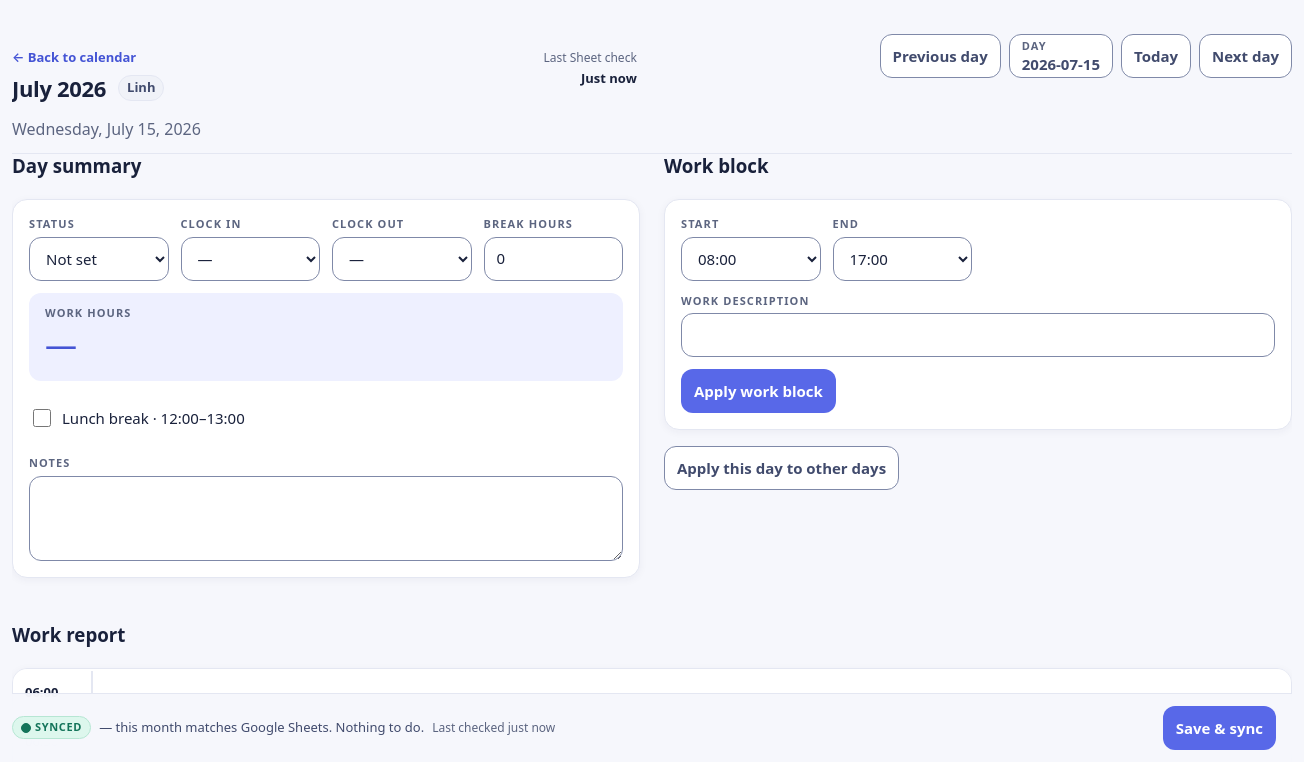
Test: AttendanceEditor › writes a work block into every covered slot of the shared draft
This screenshot has width=1304, height=762.
Check: the button "Save & sync" is shown, box [1163,706,1276,750]
Step 1. Select "09:00" in the dropdown labelled "Start" → (751, 258), box [681,236,820,280]
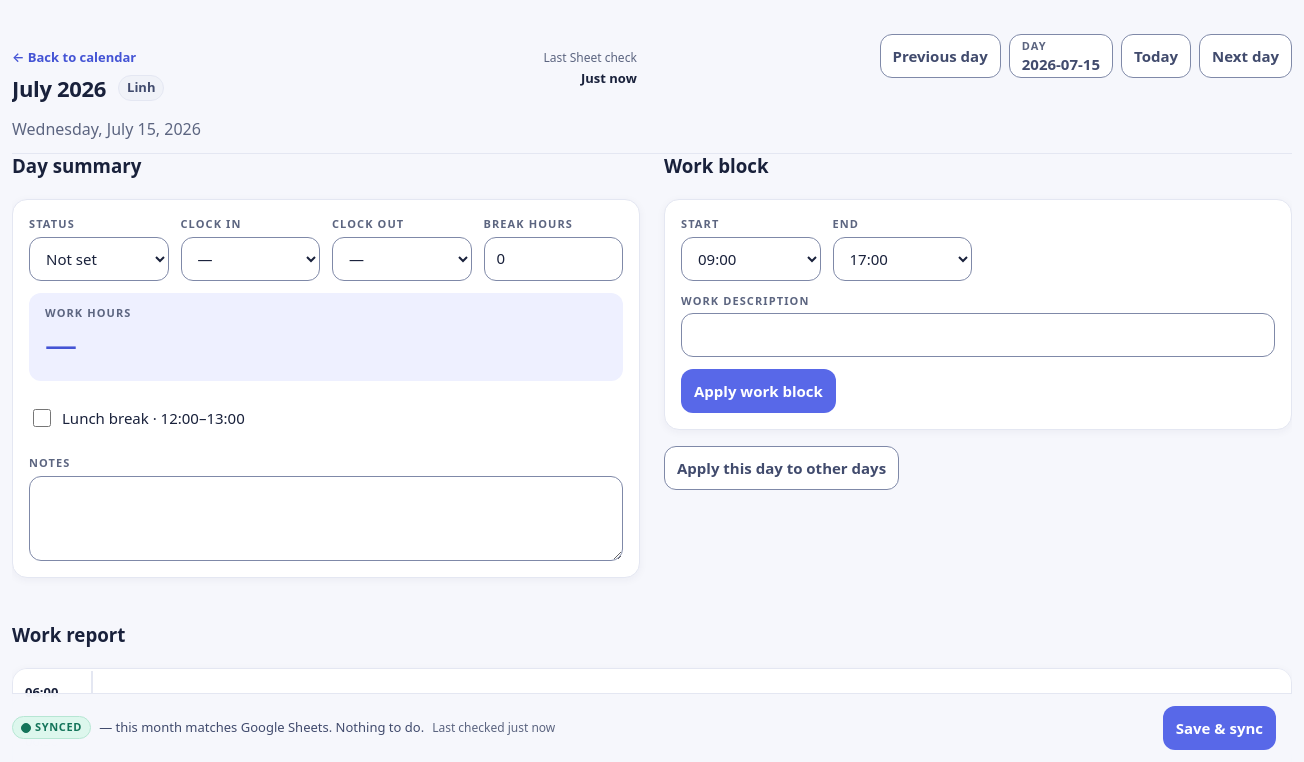
Step 2. Select "10:00" in the dropdown labelled "End" → (902, 258), box [832,236,972,280]
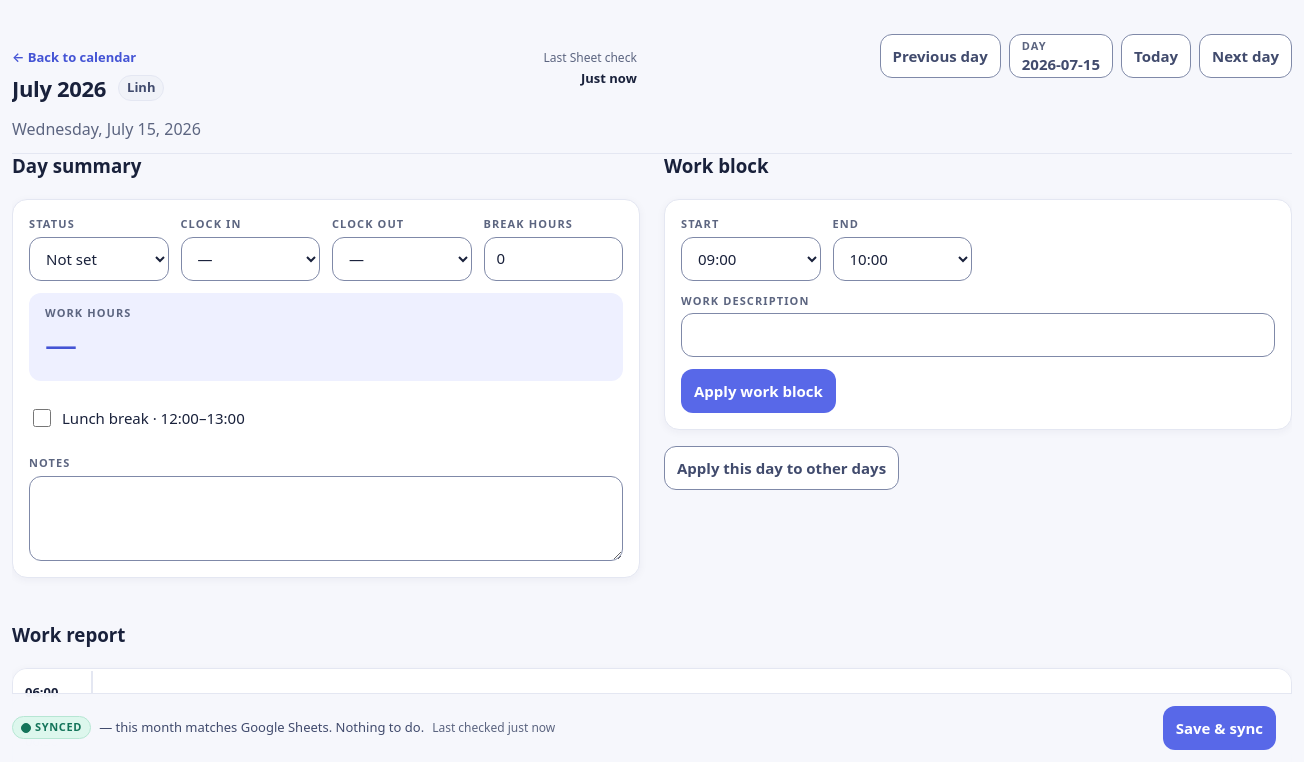
Step 3. Type "Client report" into the field labelled "Work description" → (978, 335), box [681,313,1275,357]
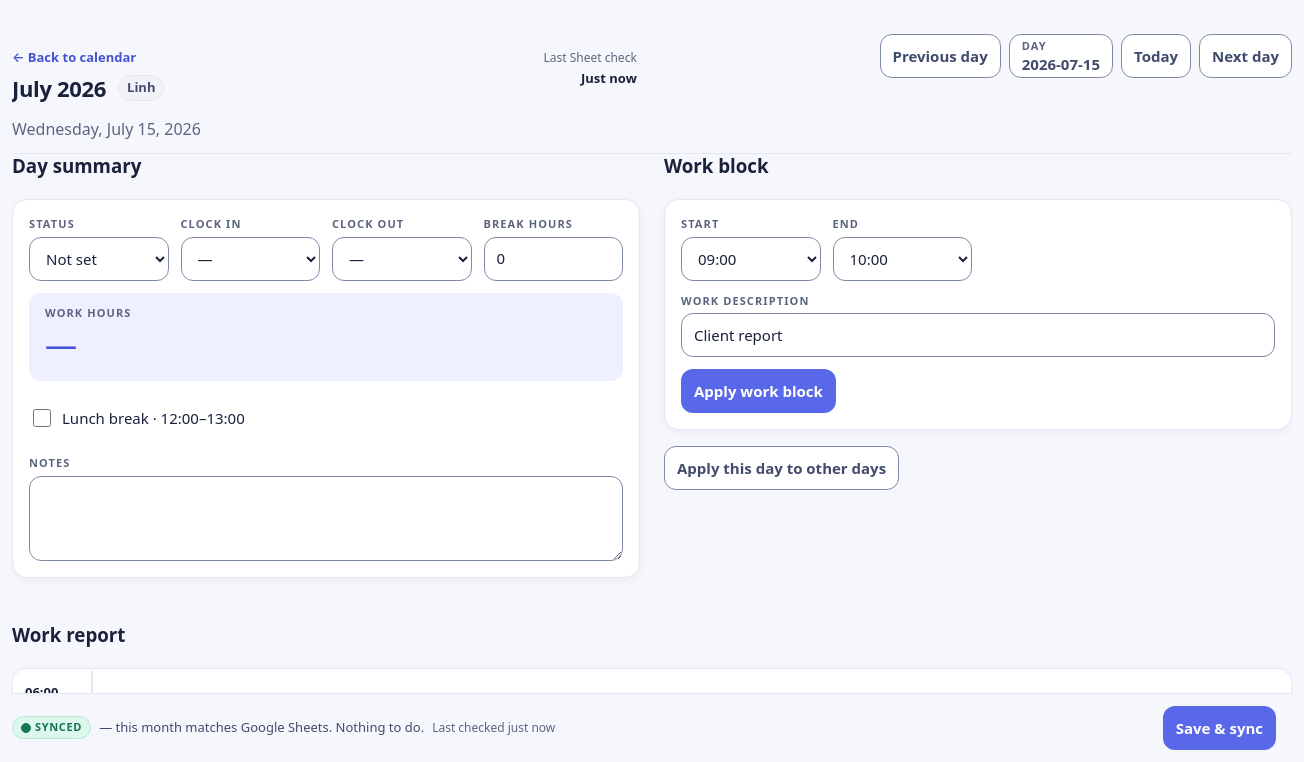
Step 4. Click the button "Apply work block" → (758, 391), box [681,369,836,413]
(page scrolled)
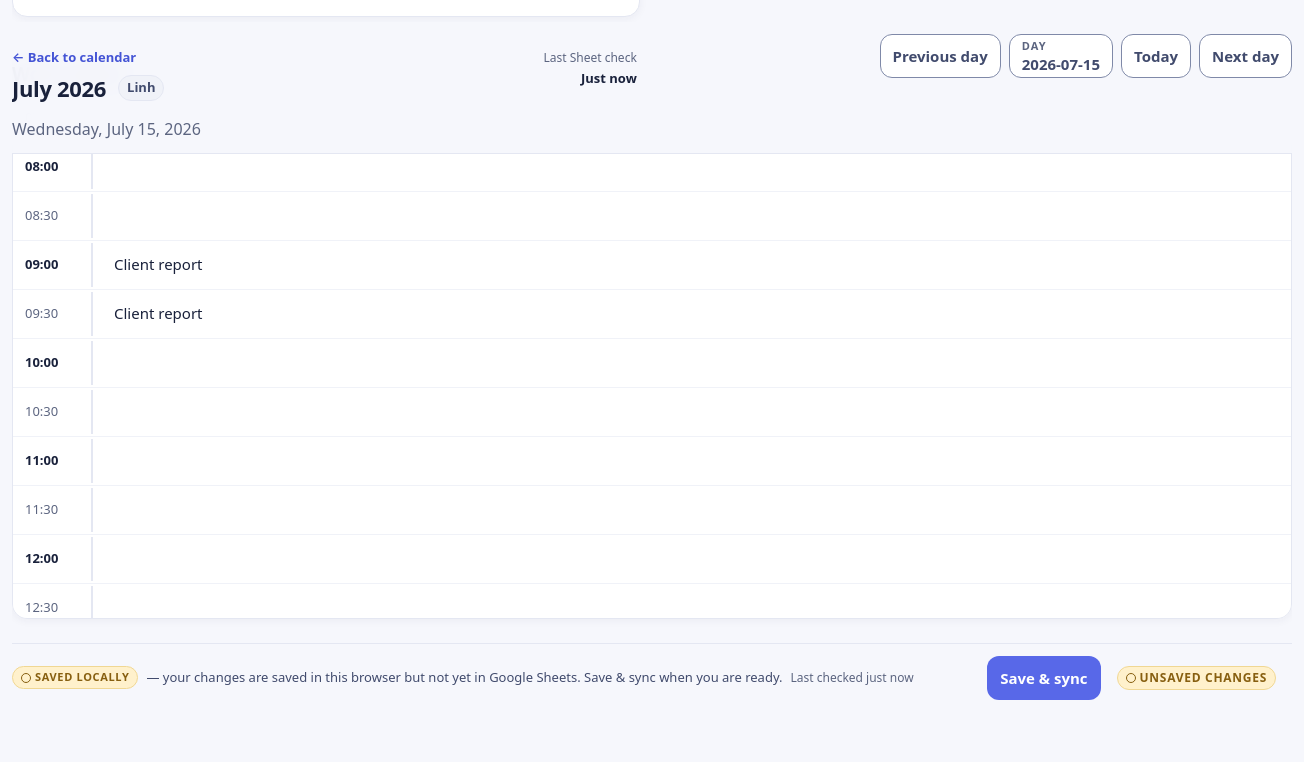
Check: the field named "10:00 work" is empty, box [105,340,1279,384]
Check: the field named "09:00 work" holds "Client report", box [105,242,1279,286]
Check: the field named "09:30 work" holds "Client report", box [105,292,1279,336]
